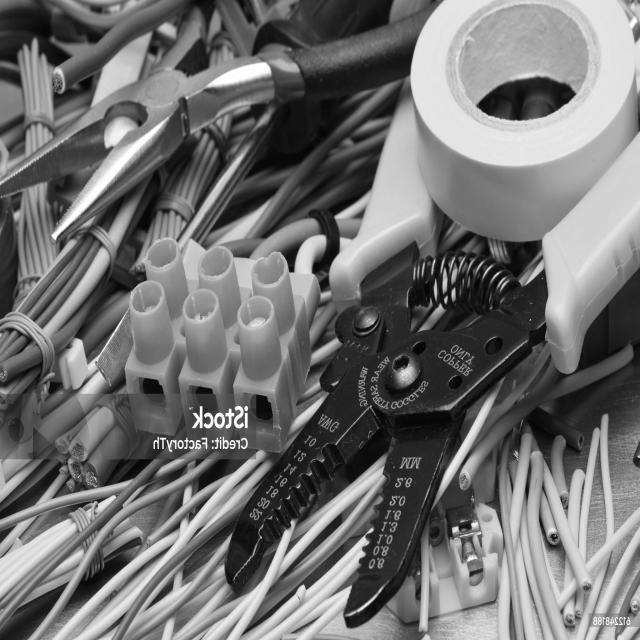pliers: (207, 0, 640, 638), (0, 0, 433, 250)
screwdriver: (107, 0, 397, 401)
tape: (411, 1, 640, 240)
